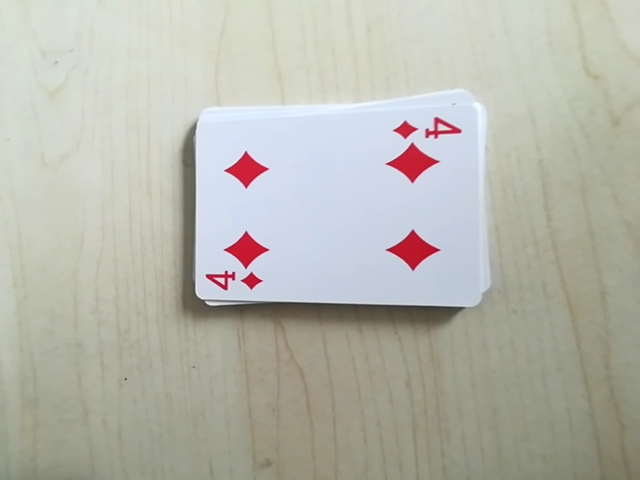fk 4: (391, 108, 469, 147), (198, 265, 265, 298)
